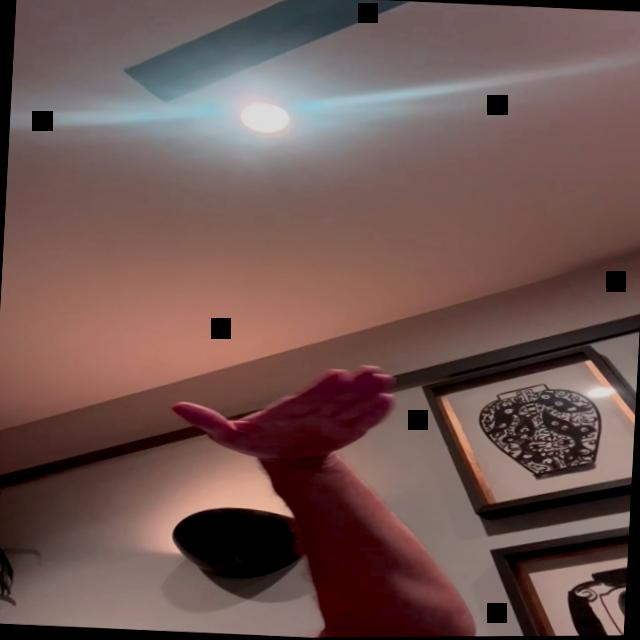Paper: (168, 353, 404, 468)
